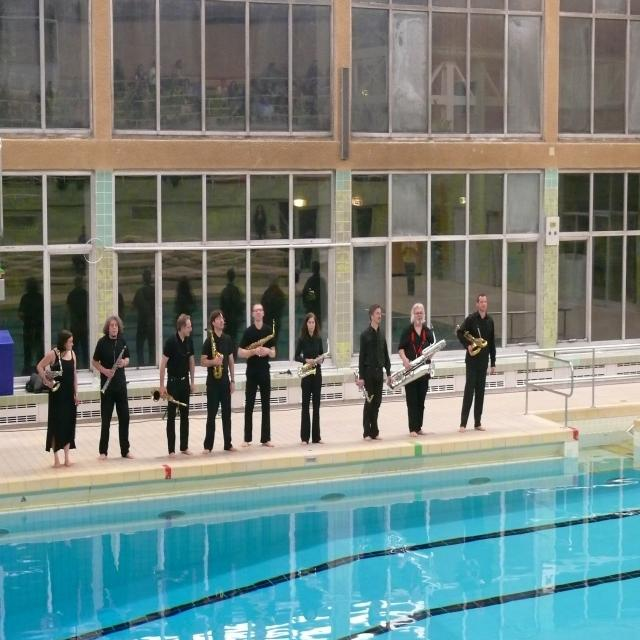saxophone: (296, 336, 332, 381), (244, 314, 278, 352), (205, 323, 226, 381), (150, 383, 191, 409)
